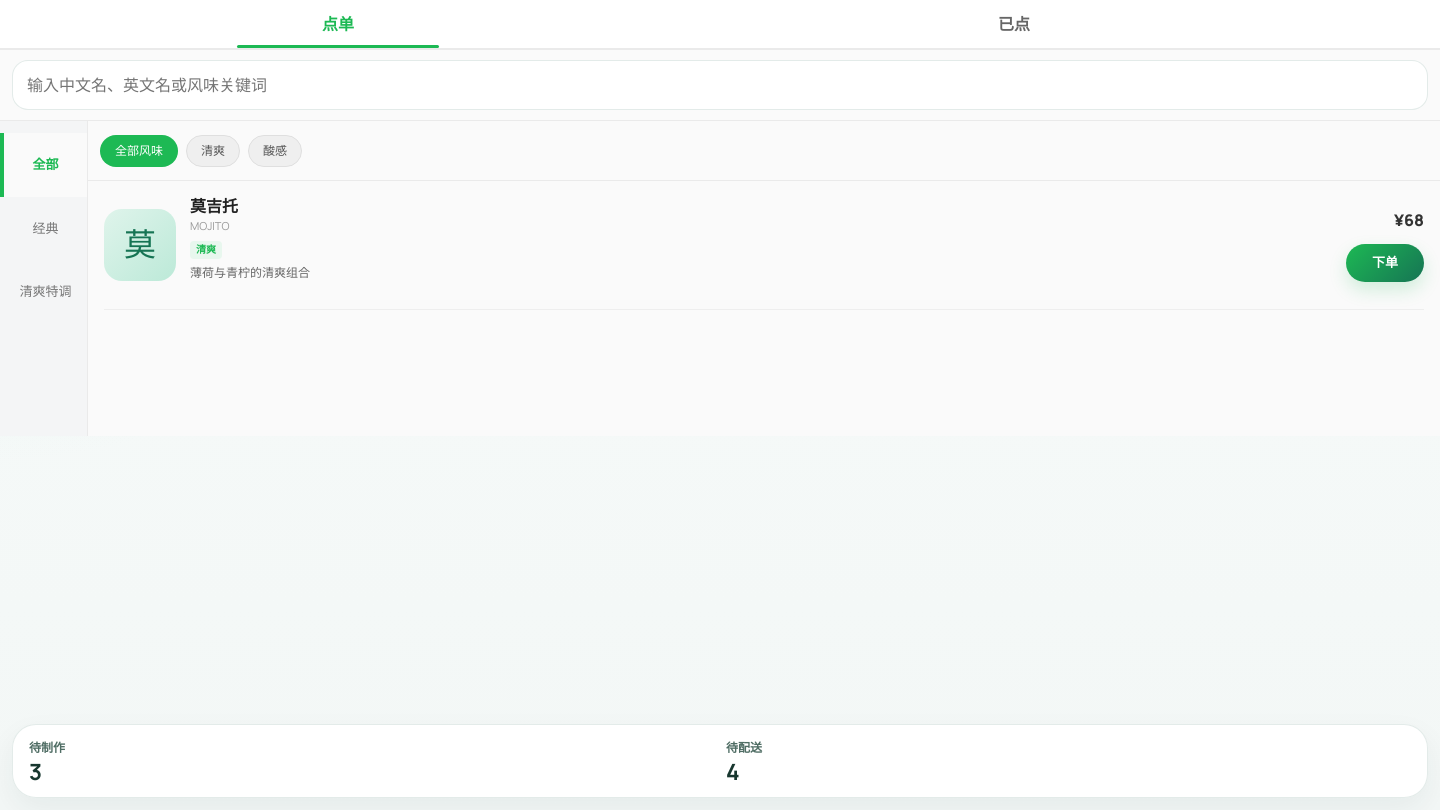
it: OrderWorkbenchPage › opens the remark modal, creates a production task, and refreshes the counts
expect the heading "莫吉托" is shown: met, box left=190, top=195, right=238, bottom=217
Click the button "下单": (1385, 263) left=1346, top=244, right=1424, bottom=282
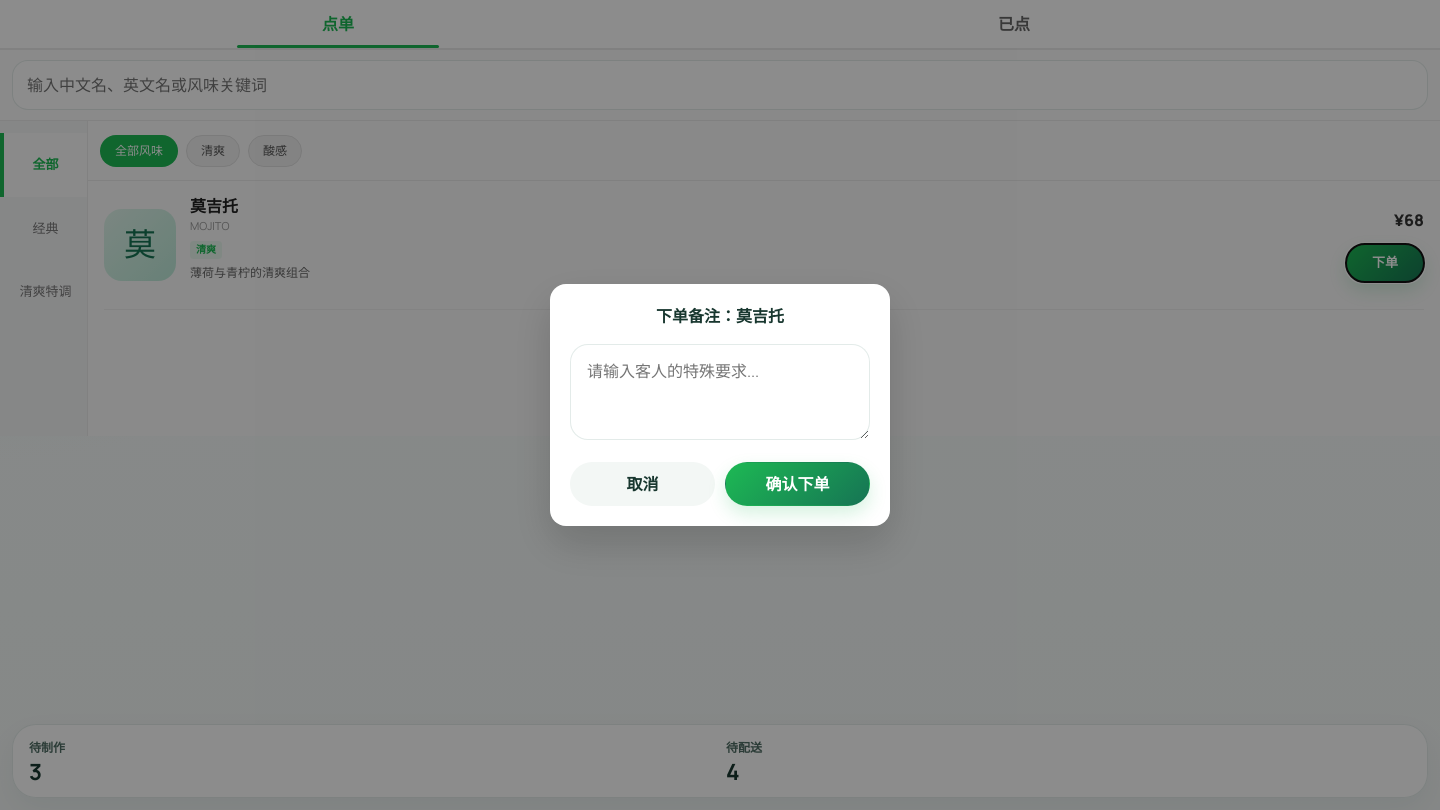
In the text box with placeholder "请输入客人的特殊要求...": (720, 392) left=570, top=344, right=870, bottom=440, type "少冰"
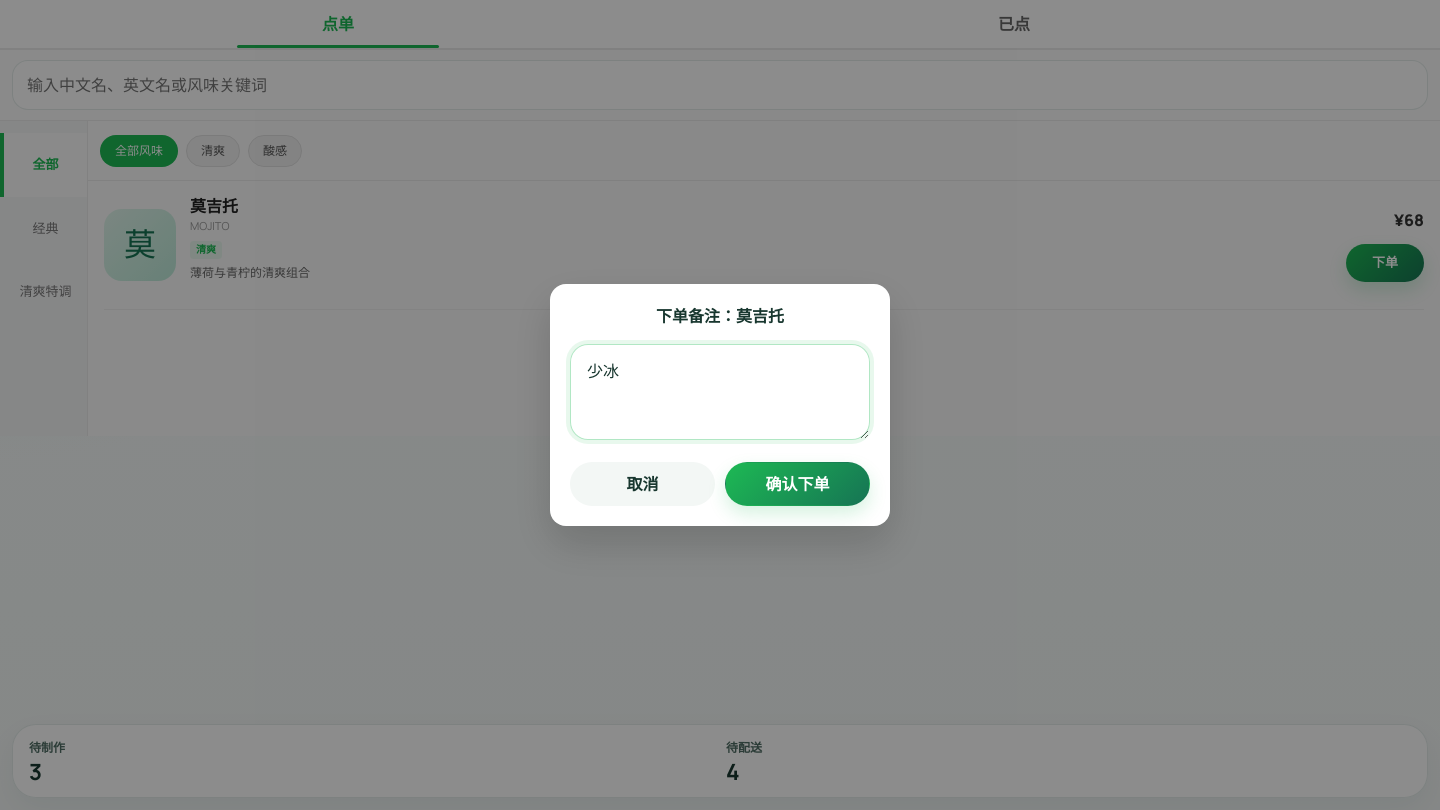
Click the button "确认下单": (798, 484) left=725, top=462, right=870, bottom=506
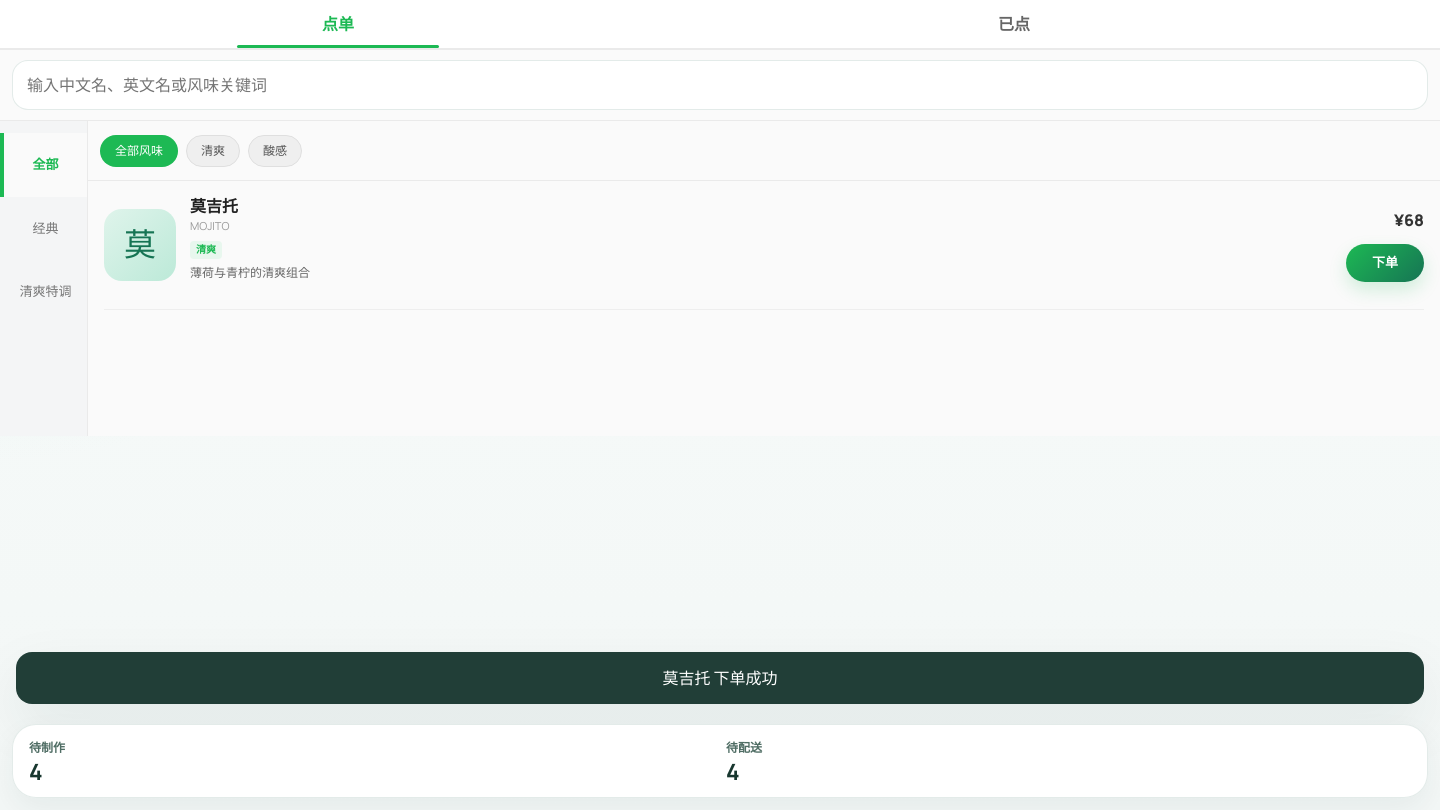
expect the text "待制作" is shown: met, box left=29, top=739, right=65, bottom=756
expect the text "莫吉托 下单成功" is shown: met, box left=16, top=652, right=1424, bottom=704
expect the text "4" below "待制作" is shown: met, box left=29, top=756, right=43, bottom=787
